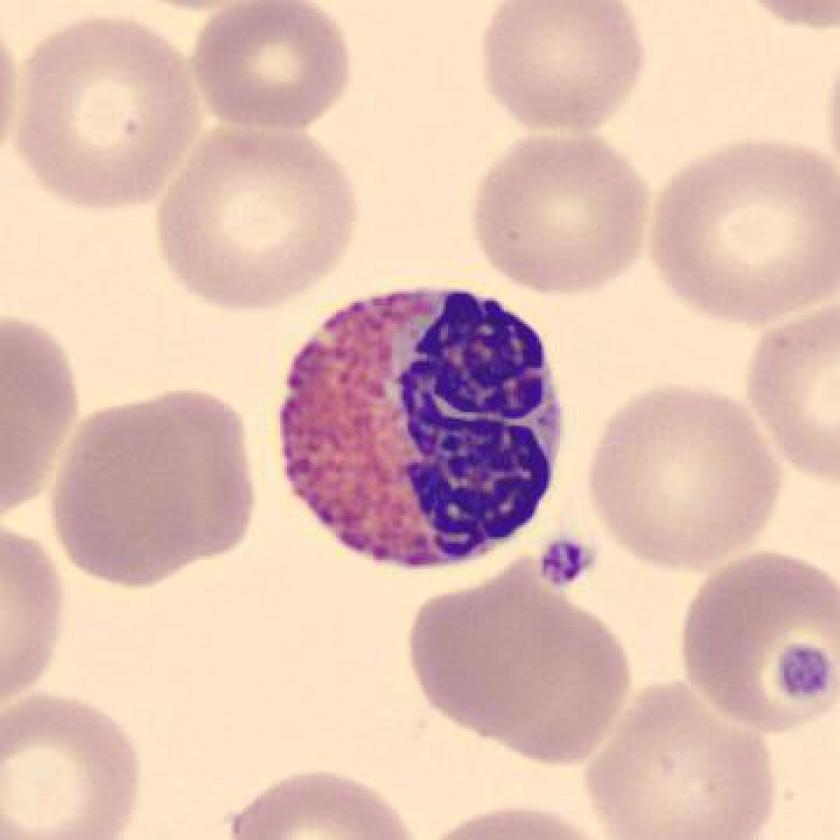eosinophil: (265, 267, 575, 589)
